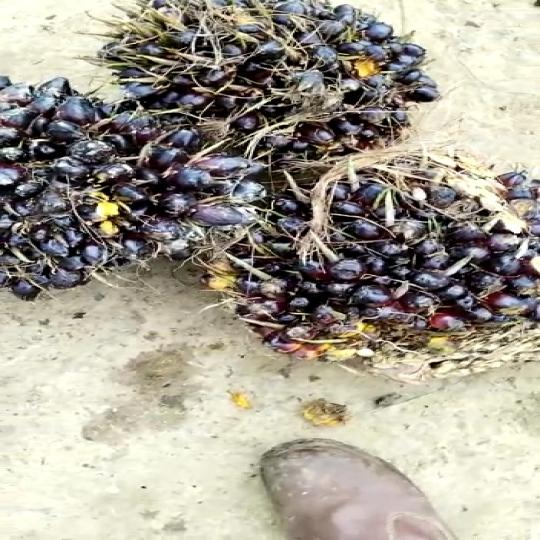mentah: (210, 140, 540, 365), (87, 1, 457, 164), (0, 64, 244, 311)
